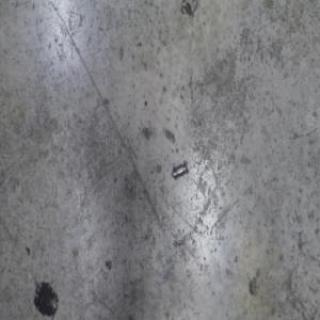Bolttrack_idkeyframe: (170, 161, 187, 182)
